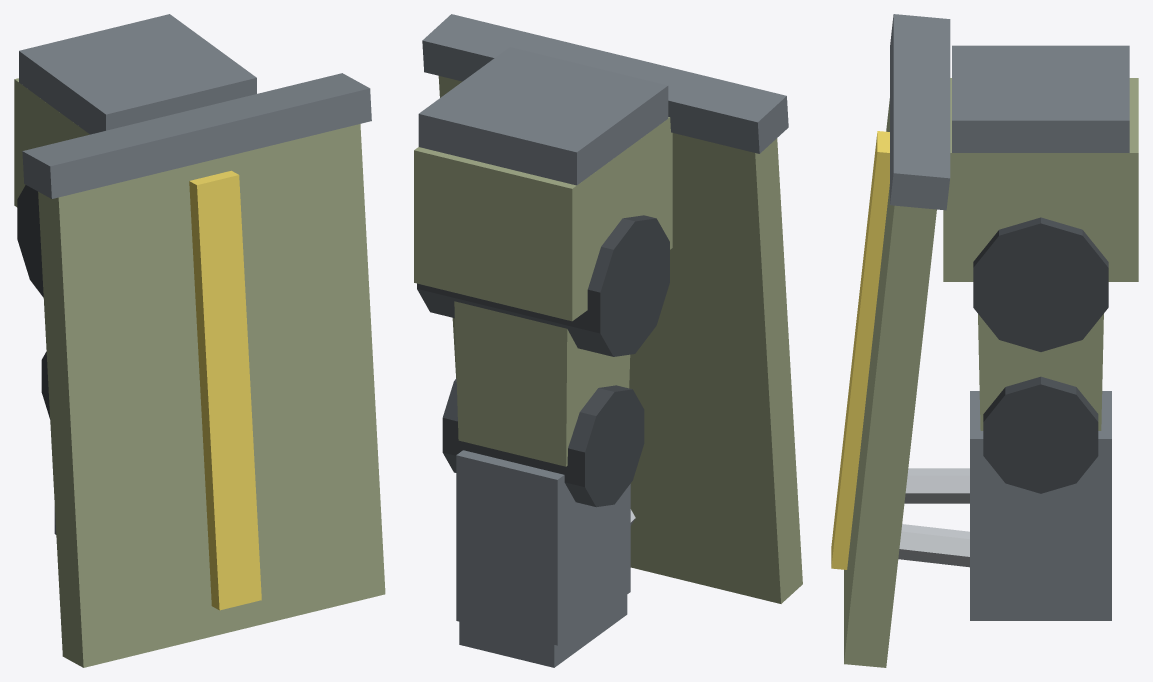
File: mod-line-mech-left-arm-26862.glb
3 views of the same model, side by side, from view 1: azimuth 30°, elevation 25°; view 2: azimuth 150°, elevation 25°; view 3: azimuth 270°, elevation 25° (orthographic). The views are drawn at different scales.
Size of the model in its own units: 4.47 by 6.74 by 3.65.
